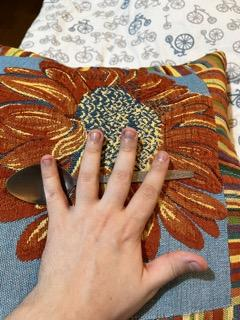spoon: (4, 161, 199, 207)
